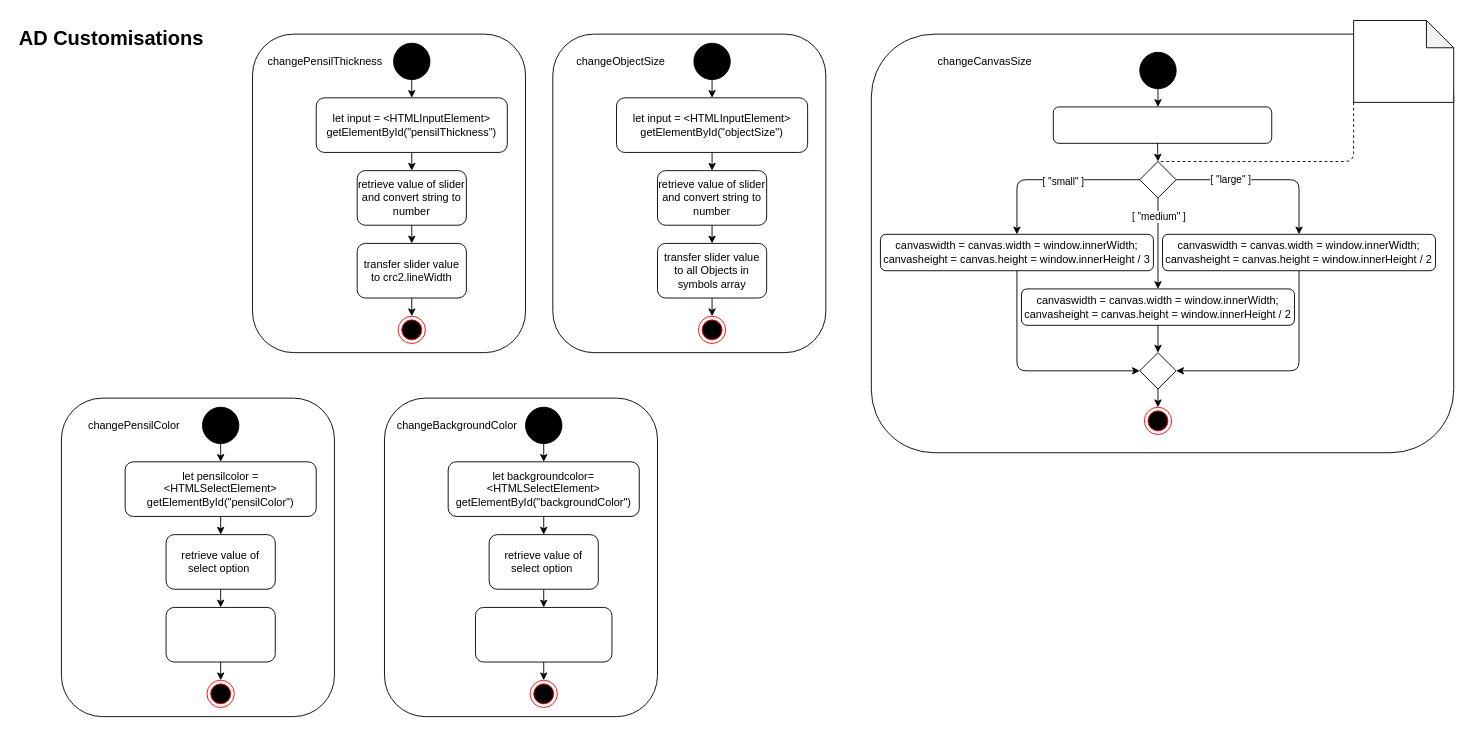
Some shapes in this 1470 by 733 pixel diagram are drawn without their labels. The centre of each missing label's shape, as x and y in pixels:
let canvassize: HTMLSelectElement getElementById("canvasSize"): [1162,124]
switch case (canvassize.value): [1403,61]
transfer value of select option to canvas background: [543,634]
transfer value of select option to variable "colorofpensil": [220,634]
